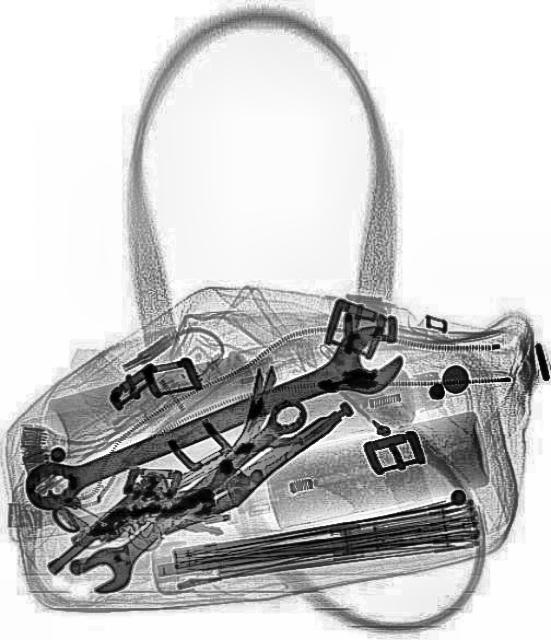Gun: (38, 441, 222, 614)
Wrench: (16, 314, 411, 524), (74, 383, 316, 601)
